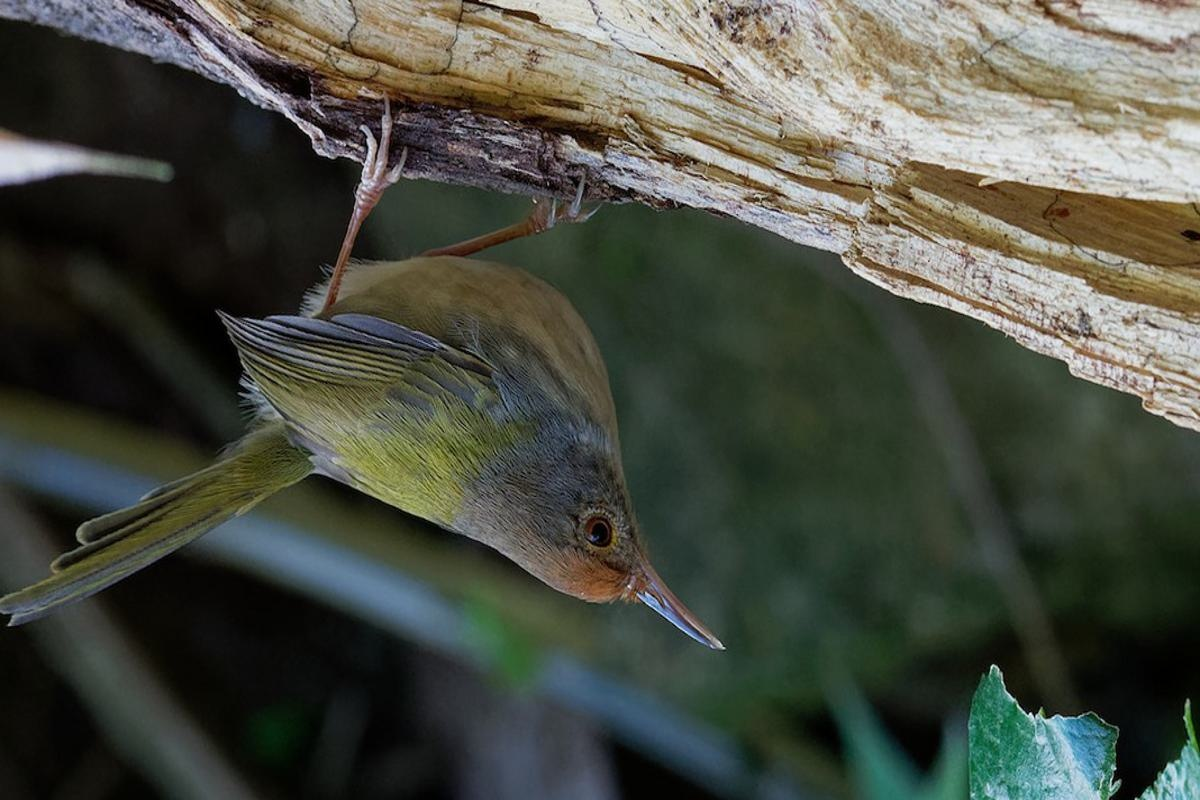tailorbird: (9, 134, 745, 630)
